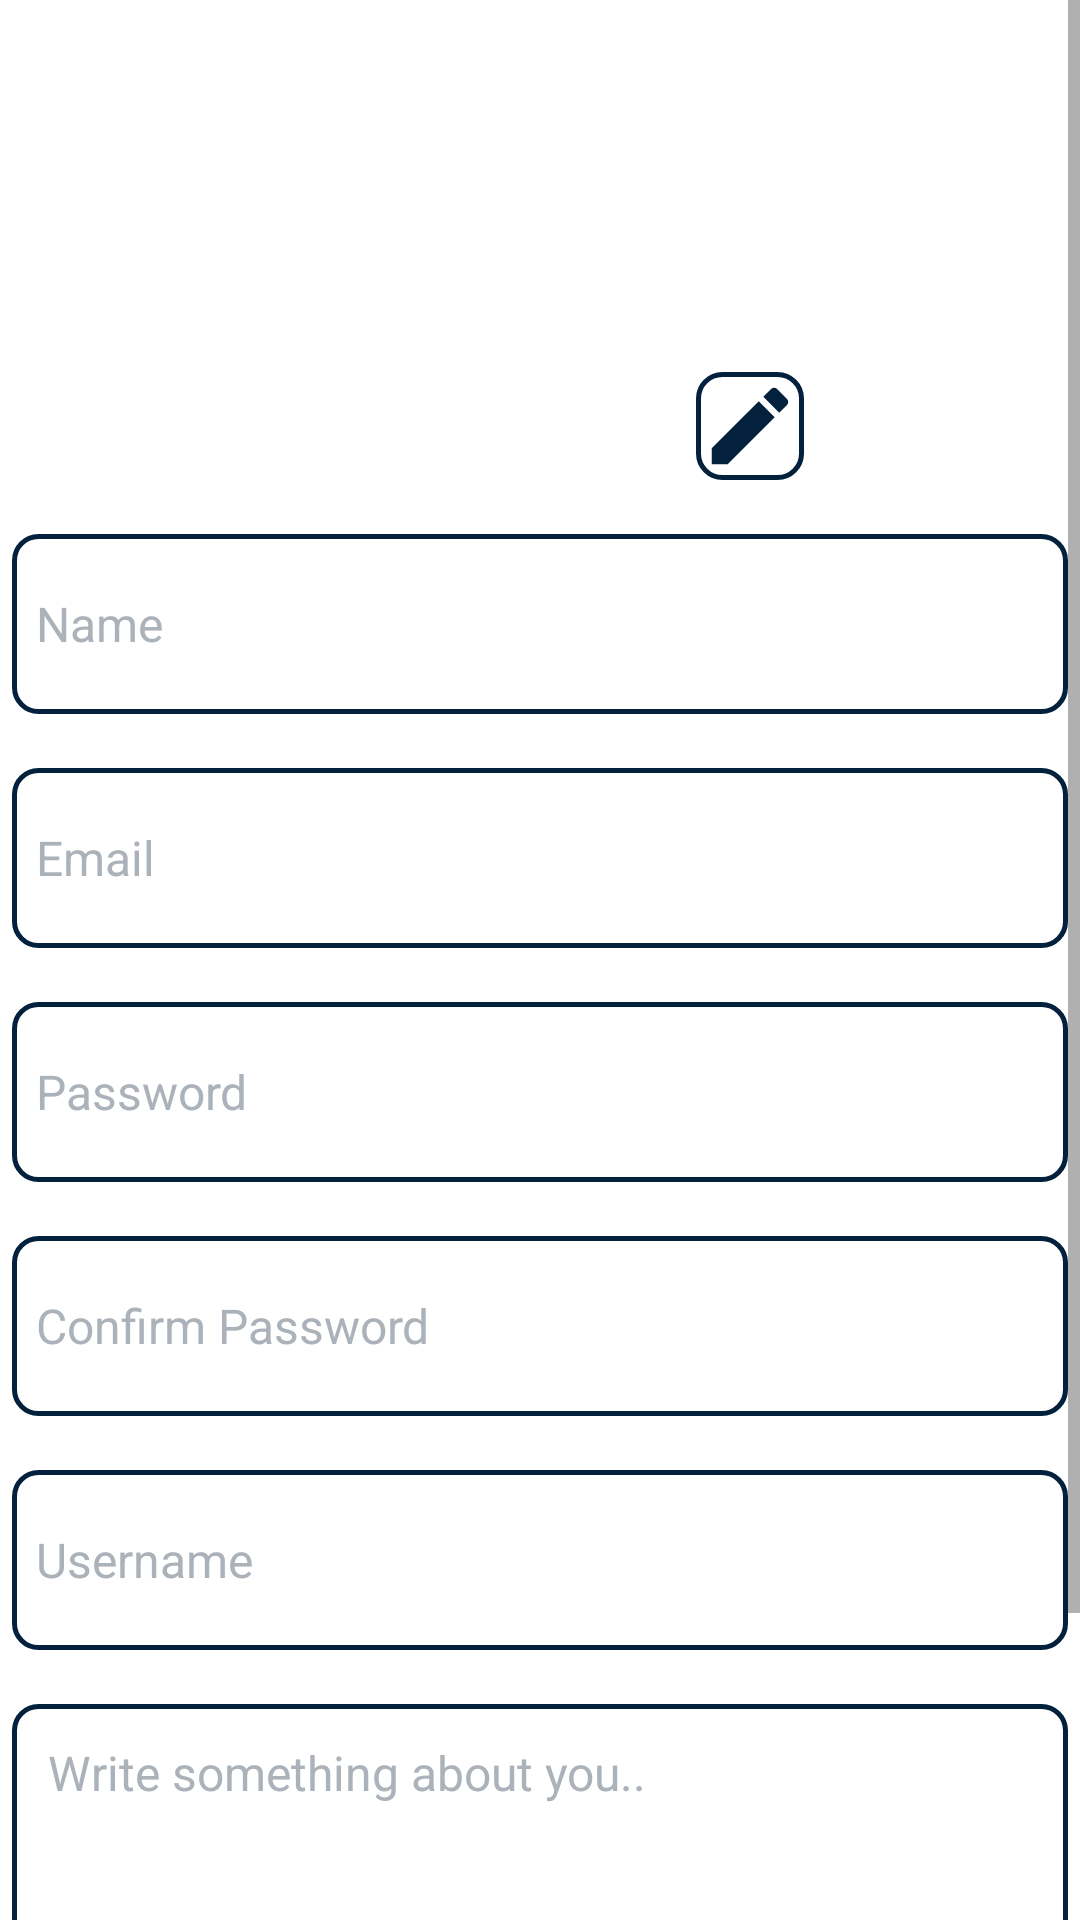

Icon click points for this 1080px×1920px phone screenshot, format (x,y):
edit: (750,426)
